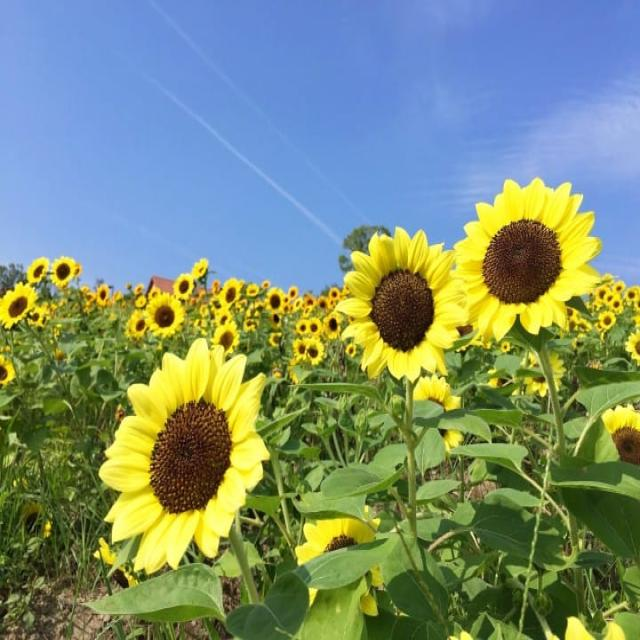sunflower: (98, 339, 268, 570), (452, 173, 606, 343), (333, 226, 469, 382), (591, 406, 640, 476), (142, 290, 185, 336), (0, 281, 38, 332), (210, 317, 244, 359), (49, 253, 79, 291), (28, 254, 54, 290), (217, 278, 244, 310), (0, 346, 18, 391), (266, 282, 290, 314), (172, 272, 196, 304), (188, 254, 210, 284), (310, 339, 326, 369), (306, 314, 322, 341), (598, 309, 616, 332), (94, 282, 110, 306), (291, 340, 310, 359), (269, 328, 287, 347), (246, 278, 258, 304), (316, 293, 328, 316), (627, 285, 640, 304)
